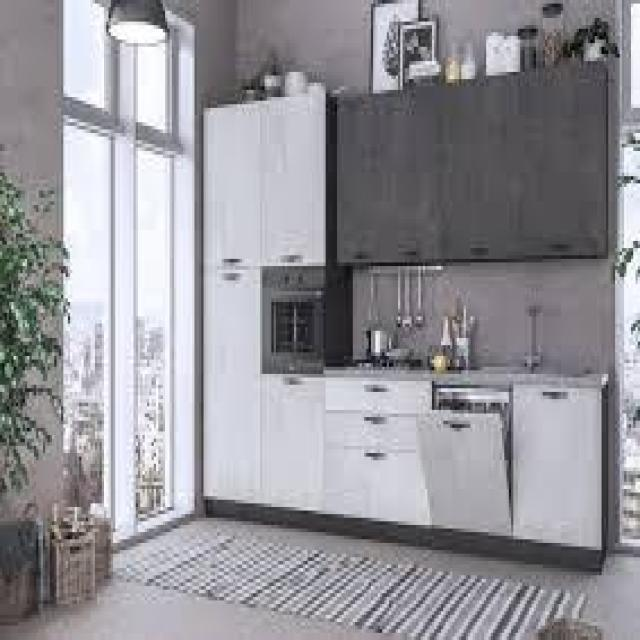dishwasher: (414, 374, 513, 546)
